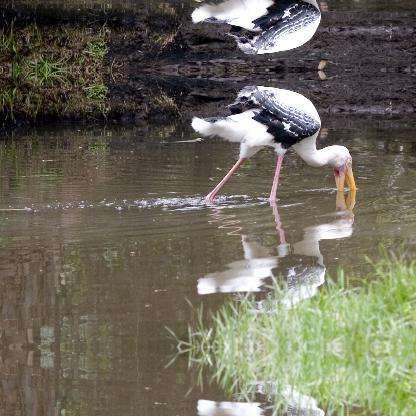Bird: (183, 82, 363, 204), (183, 0, 364, 57)
